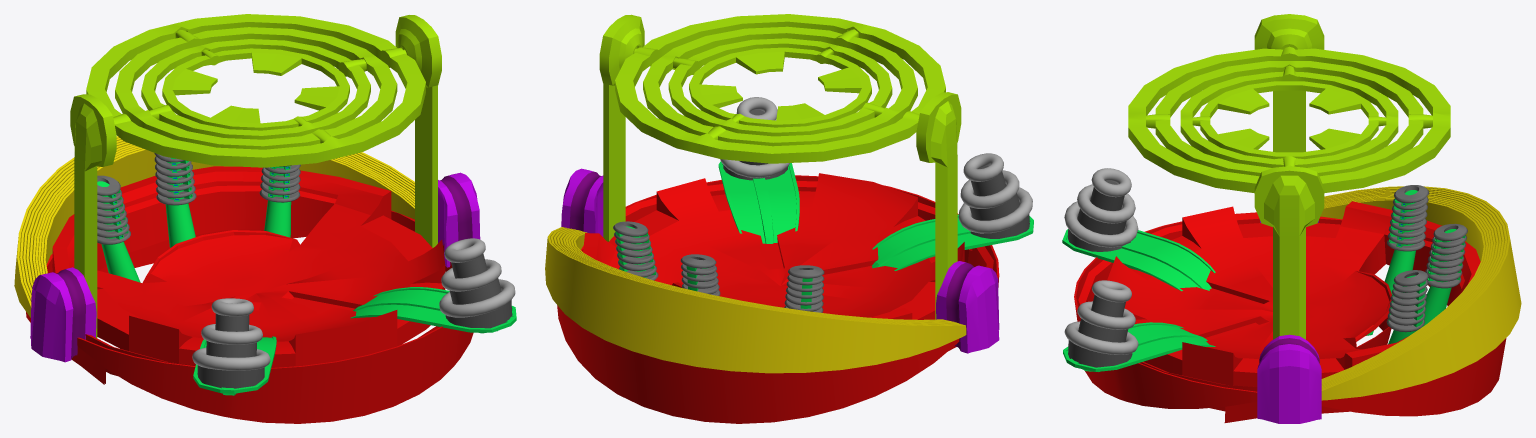
File: Tesla_Texturing_ID.fbx
3 views of the same model, side by side, from view 1: azimuth 30°, elevation 25°; view 2: azimuth 150°, elevation 25°; view 3: azimuth 270°, elevation 25° (orthographic). The views are drawn at different scales.
Visible parts, largest first — view 1: Dome_Base, Ring_1, Arms, Ring_2, Ring_4, Ring_3, Section_01, Tounge_Base_L, Booster_R, Booster_M, Concentrator_Base_R, Booster_L (+15 smaller); view 2: Dome_Base, Section_10, Ring_1, Arms, Ring_2, Ring_4, Ring_3, Tounge_Base_L, Tounge_Base_R, Booster_L, Concentrator_Base_R, Concentrator_Layer_R0 (+14 smaller); view 3: Dome_Base, Arms, Ring_1, Section_10, Ring_2, Ring_4, Ring_3, Tounge_Base_R, Booster_R, Booster_M, Tounge_Base_L, Booster_L (+15 smaller).
Boxes of the visible parts, x1,y1,x2,y2 form: Dome_Base: (26, 166, 480, 423); Ring_1: (86, 14, 425, 167); Arms: (70, 15, 441, 337); Ring_2: (115, 27, 397, 149); Ring_4: (162, 48, 349, 130); Ring_3: (141, 39, 370, 139); Section_01: (43, 149, 414, 273); Tounge_Base_L: (350, 287, 516, 333); Booster_R: (97, 175, 140, 282); Booster_M: (154, 153, 196, 247); Concentrator_Base_R: (192, 347, 270, 388); Booster_L: (259, 164, 300, 237); Dome_Base: (557, 168, 999, 423); Section_10: (545, 227, 966, 373); Ring_1: (615, 14, 945, 163); Arms: (599, 14, 961, 319); Ring_2: (643, 26, 917, 146); Ring_4: (689, 47, 871, 127); Ring_3: (668, 38, 892, 136); Tounge_Base_L: (718, 161, 799, 243); Tounge_Base_R: (872, 214, 1033, 270); Booster_L: (613, 221, 658, 280); Concentrator_Base_R: (958, 187, 1032, 238); Concentrator_Layer_R0: (960, 170, 1019, 220); Dome_Base: (1074, 201, 1506, 423); Arms: (1254, 14, 1324, 339); Ring_1: (1128, 46, 1450, 193); Section_10: (1321, 186, 1521, 400); Ring_2: (1146, 61, 1432, 176); Ring_4: (1192, 81, 1386, 159); Ring_3: (1180, 65, 1398, 167); Tounge_Base_R: (1062, 229, 1215, 291); Booster_R: (1384, 185, 1429, 294); Booster_M: (1415, 223, 1467, 331); Tounge_Base_L: (1063, 322, 1215, 371); Booster_L: (1386, 270, 1428, 344).
Size of the model in its own units: 244 by 152 by 231.
